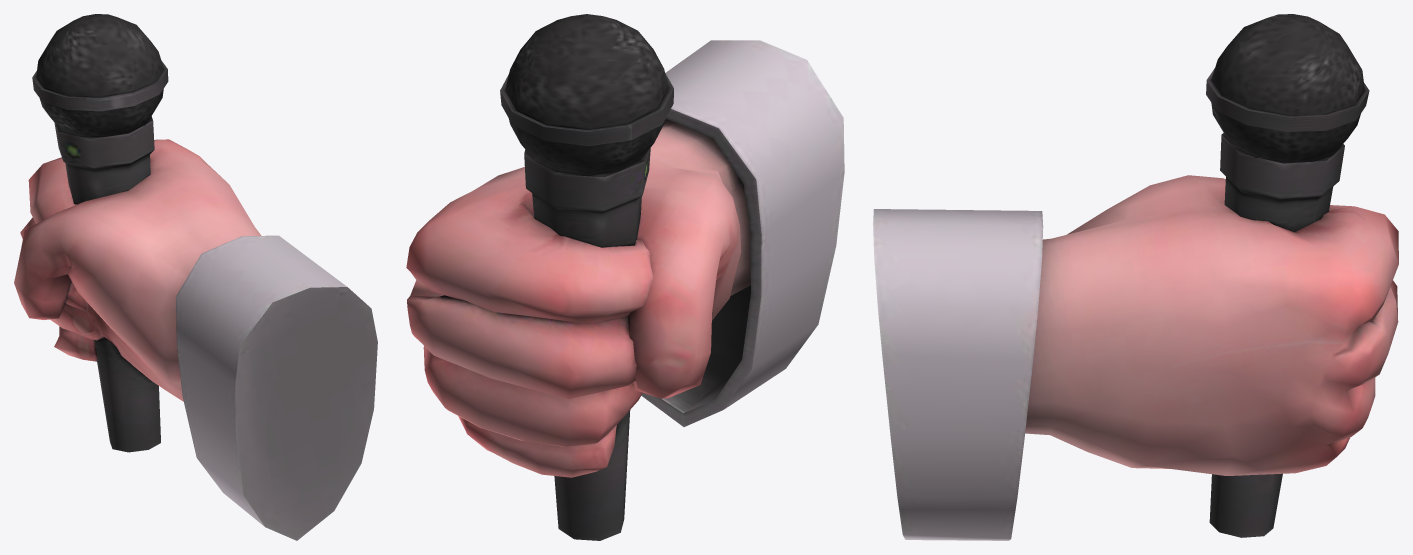
The model's file is avatar1-hand-right.glb.
3 renders of one model, left to right at view 1: azimuth 30°, elevation 25°; view 2: azimuth 150°, elevation 25°; view 3: azimuth 270°, elevation 25°, orthographic. The views are drawn at different scales.
Visible parts, largest first — view 1: hand-right; view 2: hand-right; view 3: hand-right.
Boxes of the visible parts, bbox=[...] form: hand-right: bbox=[14, 14, 377, 540]; hand-right: bbox=[406, 14, 844, 540]; hand-right: bbox=[873, 14, 1398, 540].
Bounding box in the file's own units: 0.1374 × 0.2695 × 0.258.
Materials: 1 (1 with a texture image).
